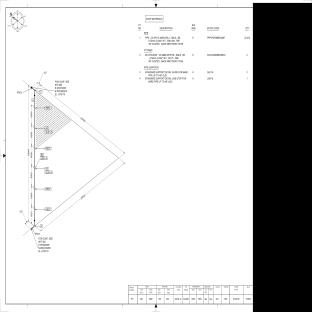support: (33, 165, 36, 171), (33, 105, 36, 110), (33, 125, 36, 130), (33, 145, 36, 150), (33, 186, 36, 191), (33, 206, 36, 211)
weld: (30, 86, 32, 88), (34, 220, 35, 222), (34, 95, 35, 96)
